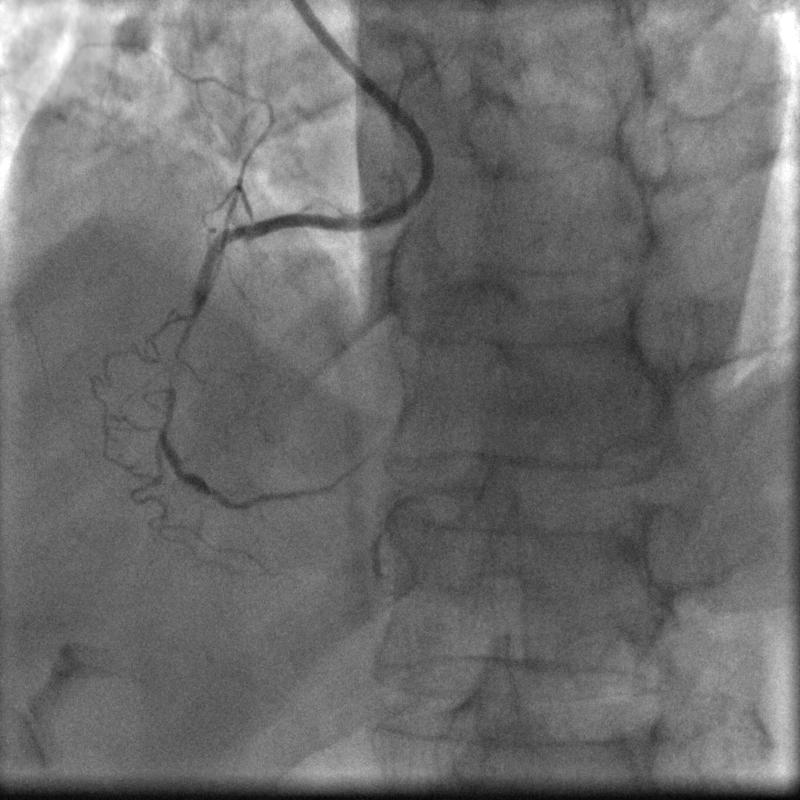Stenosis: (161, 294, 204, 392)
